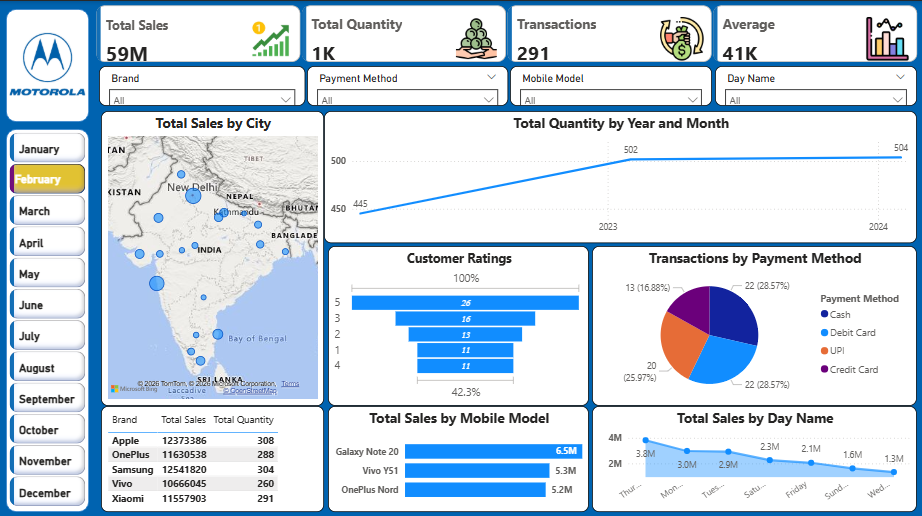

Layout of this report page (visuals, bound fields, positions):
{"tool":"powerbi","page":{"name":"BI Dashboard","canvas":[1280,720],"ordinal":0},"visuals":[{"type":"shape","box":[12.4,11,114.2,155.5],"z":0},{"type":"image","box":[12.4,11,114.2,151.4],"z":1},{"type":"shape","box":[12.4,176.2,114.2,527.1],"z":2},{"type":"advancedSlicerVisual","fields":{"Values":["Mobile Sales Data.Date.Variation.Date Hierarchy.Month"]},"box":[12.4,176.2,114.2,534],"z":3},{"type":"cardVisual","fields":{"Data":["Mobile Sales Data.Total Sales","Mobile Sales Data.Total Quantity","Mobile Sales Data.Transactions","Mobile Sales Data.Average"]},"box":[126.6,0,1153.4,89.5],"z":4},{"type":"map","fields":{"Category":["Mobile Sales Data.City"],"Size":["Mobile Sales Data.Total Sales"]},"box":[143.1,151.4,306.9,406],"z":5},{"type":"lineChart","fields":{"Y":["Mobile Sales Data.Total Quantity"],"Category":["Mobile Sales Data.Date.Variation.Date Hierarchy.Year","Mobile Sales Data.Date.Variation.Date Hierarchy.Month","Mobile Sales Data.Date.Variation.Date Hierarchy.Day"]},"box":[450.1,151.4,816.2,181.7],"z":6},{"type":"funnel","title":"Customer Ratings","fields":{"Category":["Mobile Sales Data.Customer Ratings"],"Y":["CountNonNull(Mobile Sales Data.Customer Ratings)"]},"box":[455.6,337.2,359.2,220.2],"z":7},{"type":"pieChart","fields":{"Category":["Mobile Sales Data.Payment Method"],"Y":["Mobile Sales Data.Transactions"]},"box":[818.9,337.2,447.3,220.2],"z":8},{"type":"clusteredBarChart","fields":{"Category":["Mobile Sales Data.Mobile Model"],"Y":["Mobile Sales Data.Total Sales"]},"box":[455.6,557.4,359.2,145.9],"z":9},{"type":"areaChart","fields":{"Category":["Mobile Sales Data.Day Name"],"Y":["Mobile Sales Data.Total Sales"]},"box":[818.9,557.4,447.3,145.9],"z":10},{"type":"tableEx","fields":{"Values":["Mobile Sales Data.Brand","Mobile Sales Data.Total Sales","Mobile Sales Data.Total Quantity"]},"box":[143.1,557.4,306.9,145.9],"z":11},{"type":"slicer","fields":{"Values":["Mobile Sales Data.Brand"]},"box":[140.4,89.5,283.5,55.1],"z":12},{"type":"slicer","fields":{"Values":["Mobile Sales Data.Brand","Mobile Sales Data.Payment Method"]},"box":[426.7,89.5,276.6,55.1],"z":13},{"type":"slicer","fields":{"Values":["Mobile Sales Data.Mobile Model"]},"box":[706.1,89.5,278,55.1],"z":14},{"type":"slicer","fields":{"Values":["Mobile Sales Data.Day Name"]},"box":[988.2,89.5,278,55.1],"z":15}]}

Visuals, with their boxes in screenshot pixels (x1, y1, x2, y2), scaled from the page's 1280x720 canvas onto the 922x516 screenshot:
shape: <region>9, 8, 91, 119</region>
image: <region>9, 8, 91, 116</region>
shape: <region>9, 126, 91, 504</region>
advancedSlicerVisual - Mobile Sales Data.Date.Variation.Date Hierarchy.Month: <region>9, 126, 91, 509</region>
cardVisual - Mobile Sales Data.Total Sales x Mobile Sales Data.Total Quantity: <region>91, 0, 921, 64</region>
map - Mobile Sales Data.City x Mobile Sales Data.Total Sales: <region>103, 109, 324, 399</region>
lineChart - Mobile Sales Data.Total Quantity x Mobile Sales Data.Date.Variation.Date Hierarchy.Year: <region>324, 109, 912, 239</region>
"Customer Ratings" funnel: <region>328, 242, 587, 399</region>
pieChart - Mobile Sales Data.Payment Method x Mobile Sales Data.Transactions: <region>590, 242, 912, 399</region>
clusteredBarChart - Mobile Sales Data.Mobile Model x Mobile Sales Data.Total Sales: <region>328, 399, 587, 504</region>
areaChart - Mobile Sales Data.Day Name x Mobile Sales Data.Total Sales: <region>590, 399, 912, 504</region>
tableEx - Mobile Sales Data.Brand x Mobile Sales Data.Total Sales: <region>103, 399, 324, 504</region>
slicer - Mobile Sales Data.Brand: <region>101, 64, 305, 104</region>
slicer - Mobile Sales Data.Brand x Mobile Sales Data.Payment Method: <region>307, 64, 507, 104</region>
slicer - Mobile Sales Data.Mobile Model: <region>509, 64, 709, 104</region>
slicer - Mobile Sales Data.Day Name: <region>712, 64, 912, 104</region>
